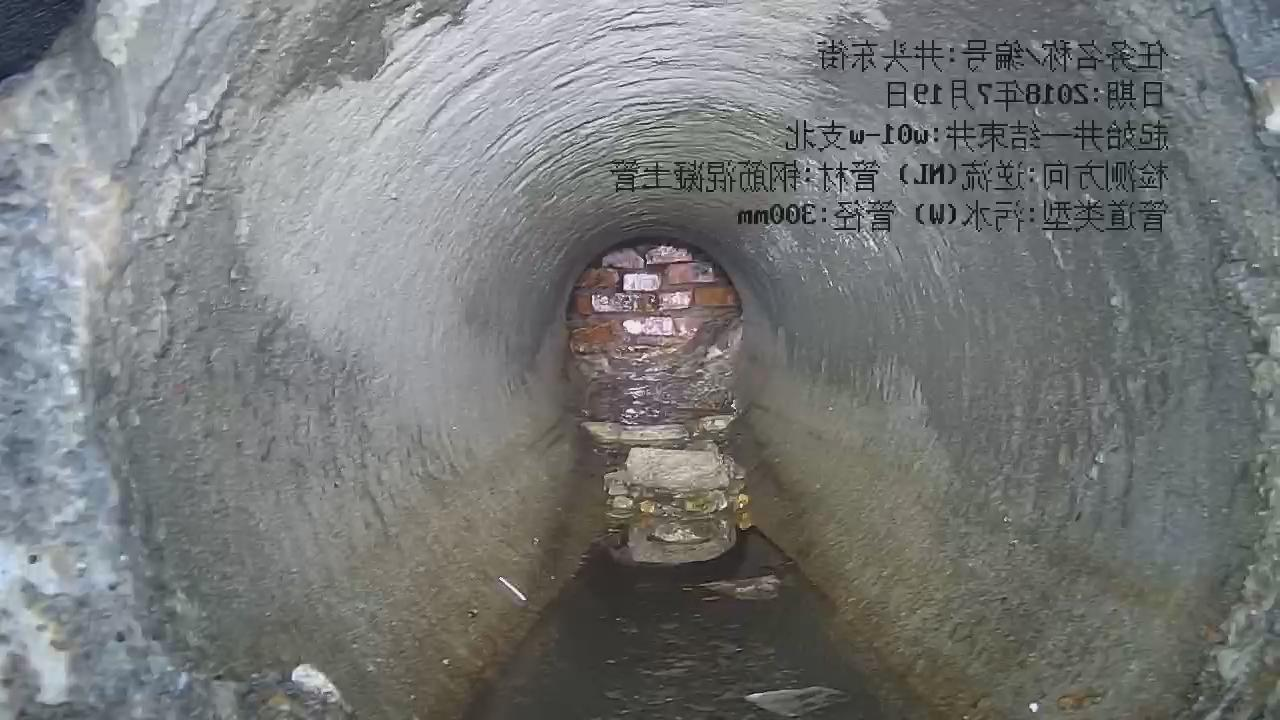CJ: (578, 314, 753, 565)
CQBG: (568, 242, 742, 370)
